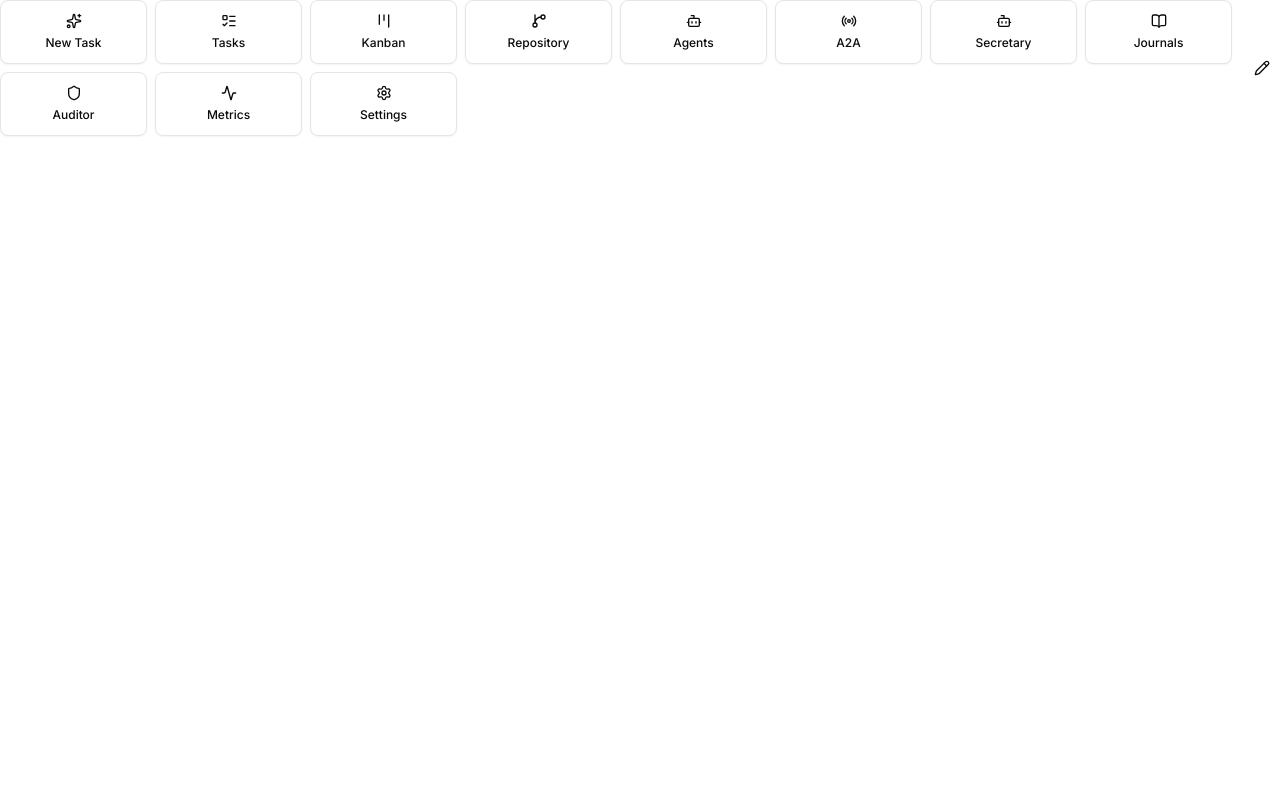
Test: QuickActionsCard › customize dialog › the move-earlier arrow is disabled for the first row
Click the button named "Customize Quick Actions" at (1262, 68), box top-left (1244, 50), bottom-right (1279, 86)
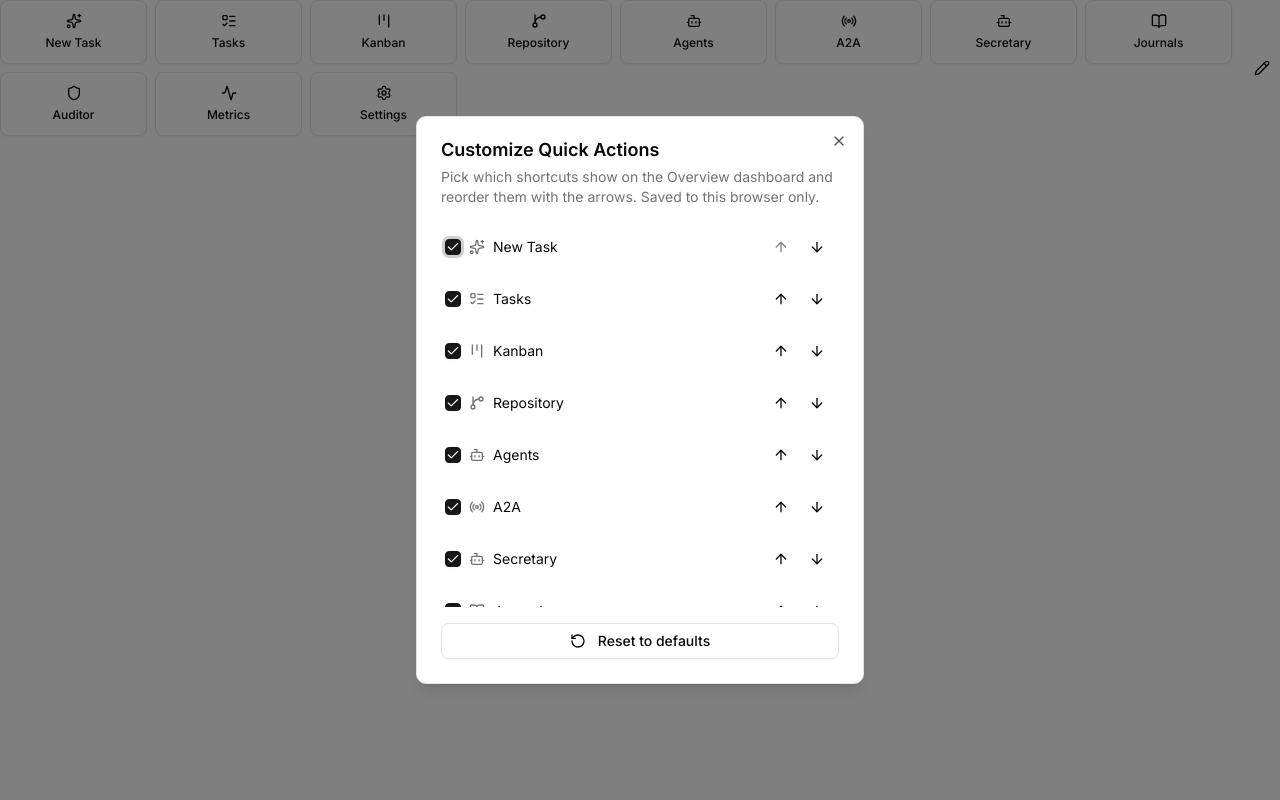
Result: the button named "Move New Task earlier" is disabled at top-left (763, 229), bottom-right (799, 265)
